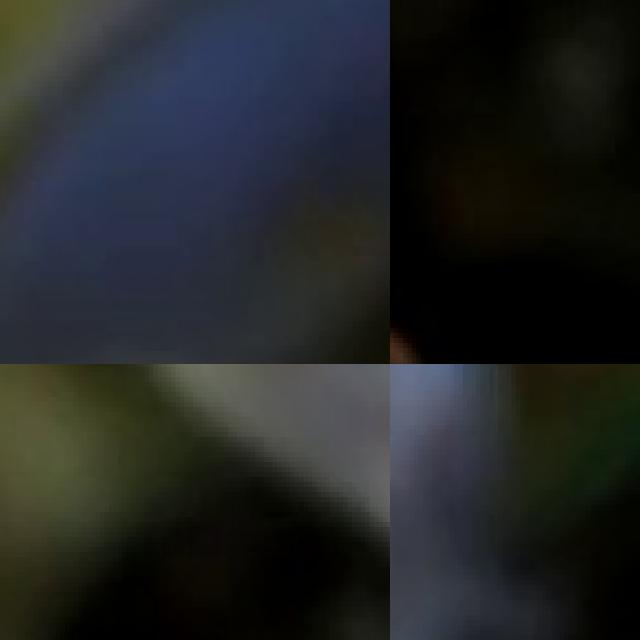fish: (0, 0, 390, 364), (390, 364, 564, 640)
